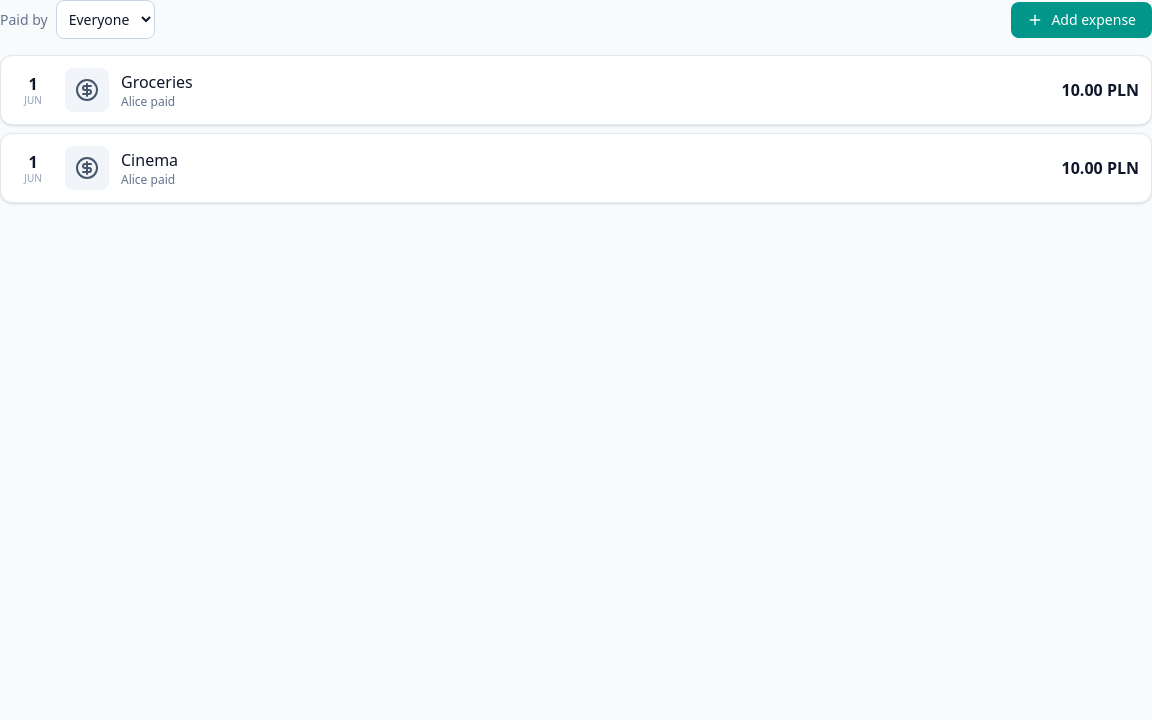
Test: ExpensesTab — optimistic delete › restores the row and shows an error if the delete request fails
Click the text "Groceries" at (157, 82), box [121, 71, 193, 93]
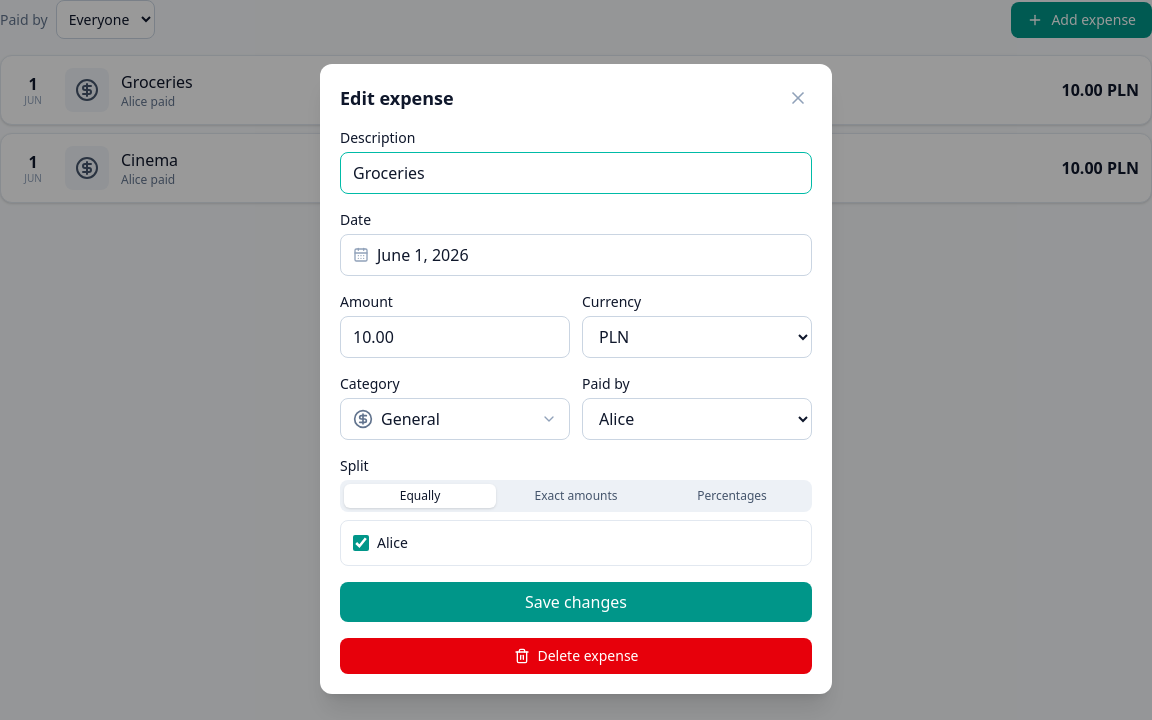
Click the button "Delete expense" at (576, 656), box [340, 638, 812, 674]
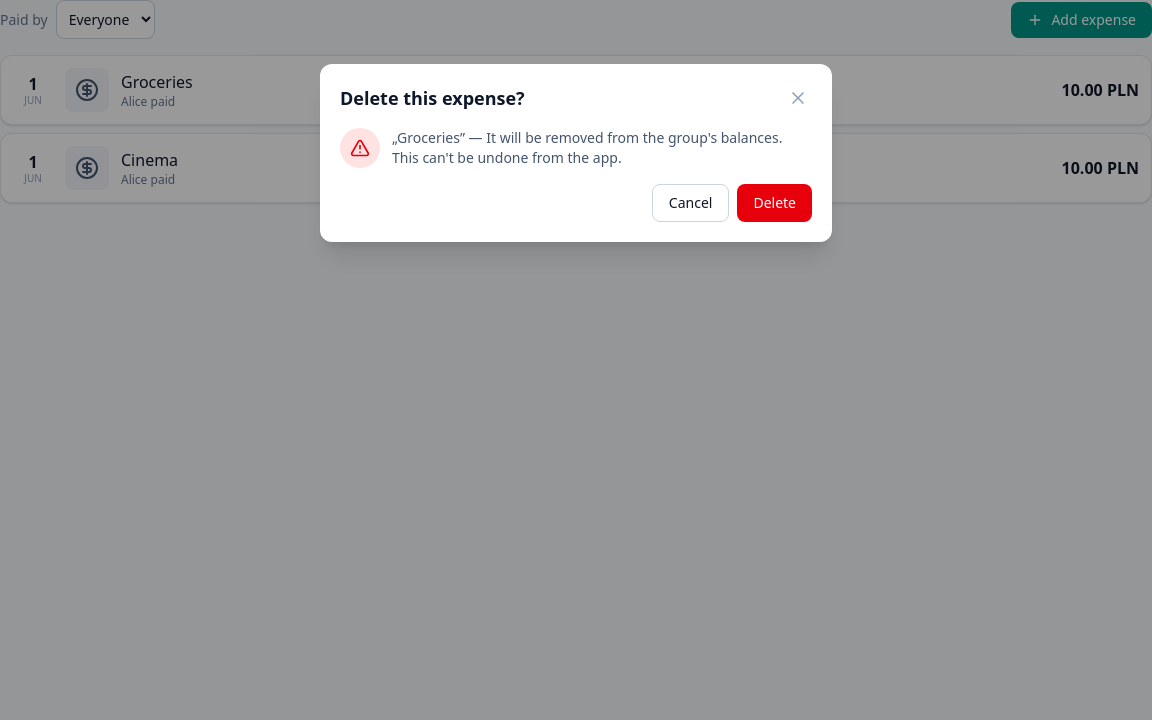
Click the button "Delete" at (775, 203), box [737, 184, 812, 222]
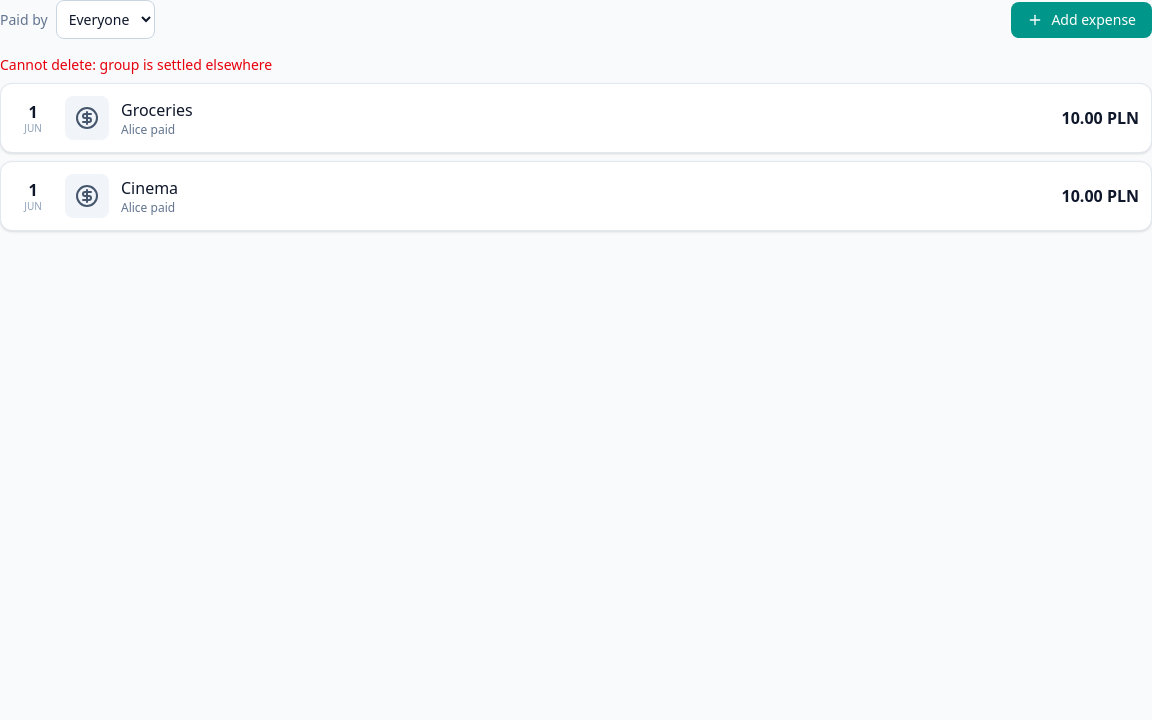
Expected: the text "Groceries" is shown, [121, 99, 193, 121]
Expected: the text "Cannot delete: group is settled elsewhere" is shown, [0, 55, 272, 74]
